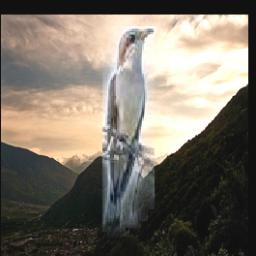Cuckoo: (102, 26, 155, 256)
